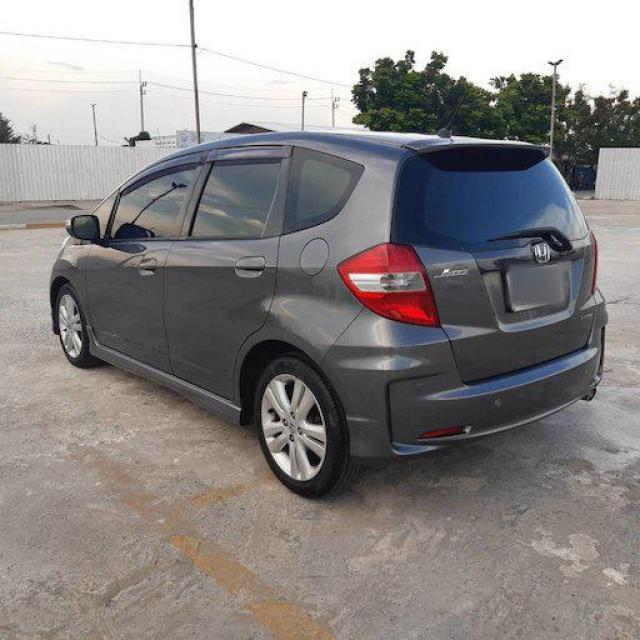back_bumper: (318, 286, 611, 462)
back_glass: (390, 148, 588, 252)
back_left_door: (162, 143, 293, 400)
back_left_light: (335, 241, 444, 329)
front_left_door: (87, 150, 210, 380)
left_mirror: (65, 215, 105, 241)
tailgate: (412, 225, 596, 382)
wheel: (253, 353, 369, 501), (56, 285, 88, 364)
